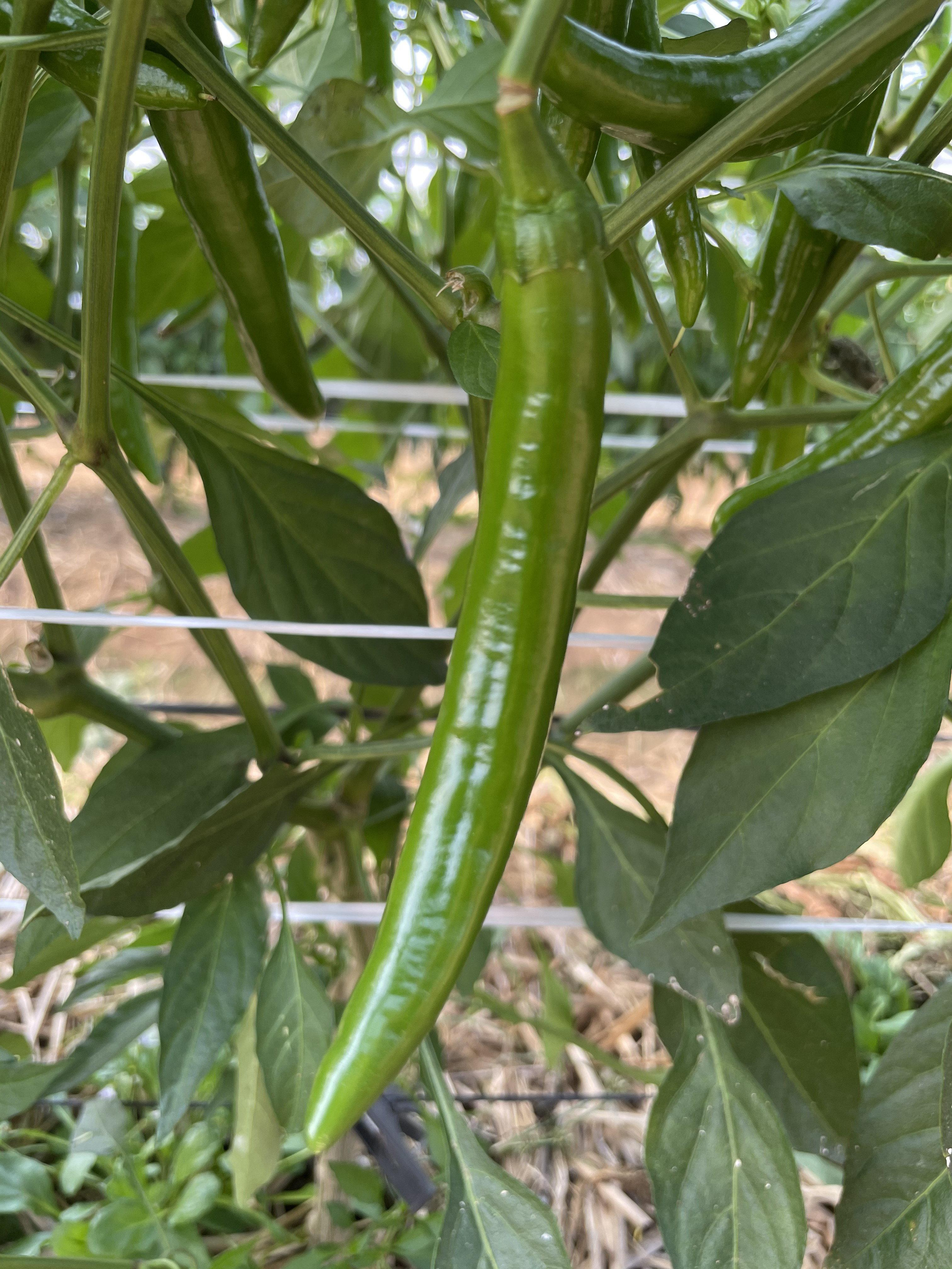Buah Cabai Sehat: (300, 164, 617, 1160)
